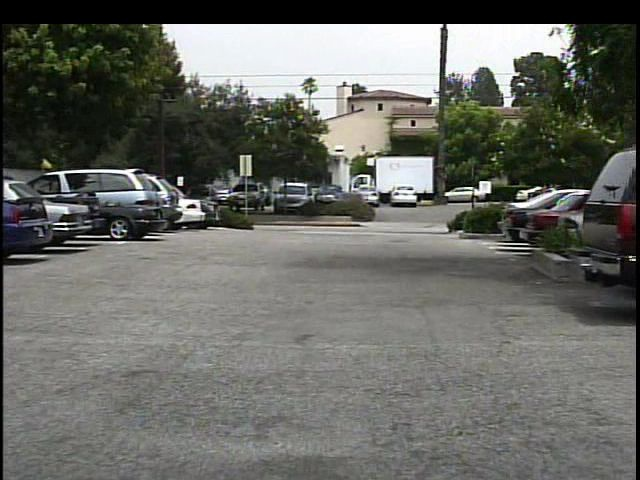person: (180, 186, 200, 223)
